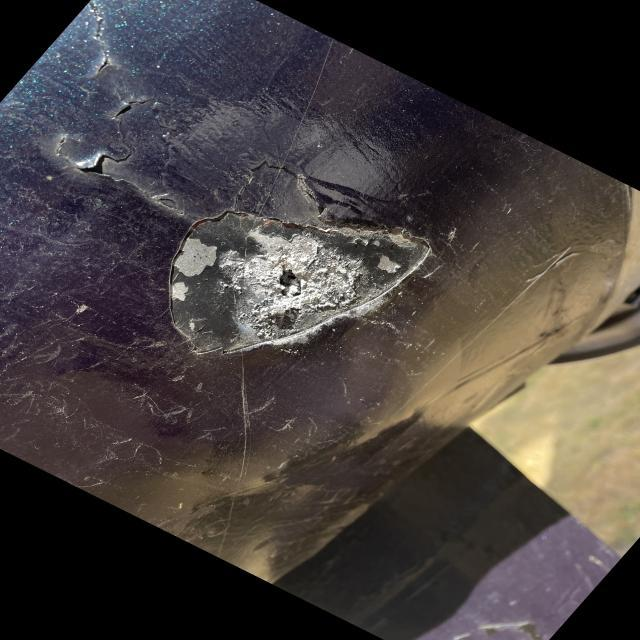crack: (50, 138, 146, 178), (77, 27, 128, 75), (88, 97, 160, 123)
dent: (155, 206, 433, 351)
